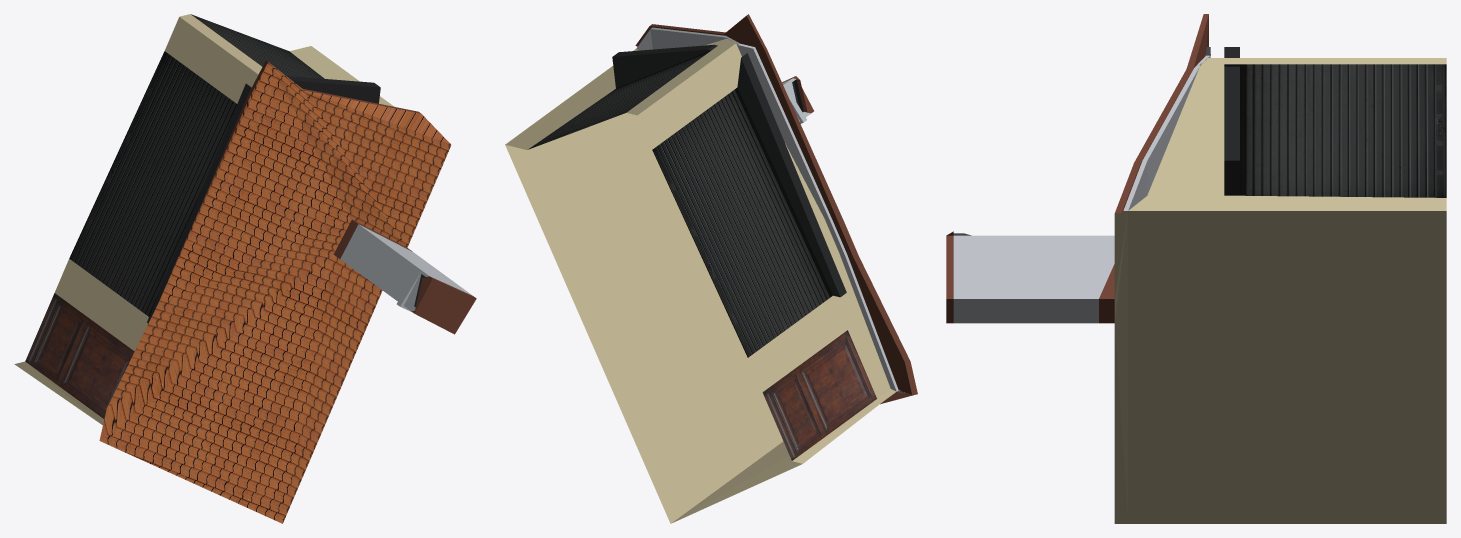
Rendered from Ryytli_24_3-origo.obj.
3 views of the same model, side by side, from view 1: azimuth 30°, elevation 25°; view 2: azimuth 150°, elevation 25°; view 3: azimuth 270°, elevation 25° (orthographic). The views are drawn at different scales.
Parts seen in each view (by area): view 1: Ryytli_24_3; view 2: Ryytli_24_3; view 3: Ryytli_24_3.
Part boxes in pixels (x1=…): Ryytli_24_3: x1=14, y1=14, x2=476, y2=523; Ryytli_24_3: x1=505, y1=14, x2=917, y2=523; Ryytli_24_3: x1=946, y1=14, x2=1446, y2=523.
Size of the model in its own units: 5.38 by 7 by 6.07.
